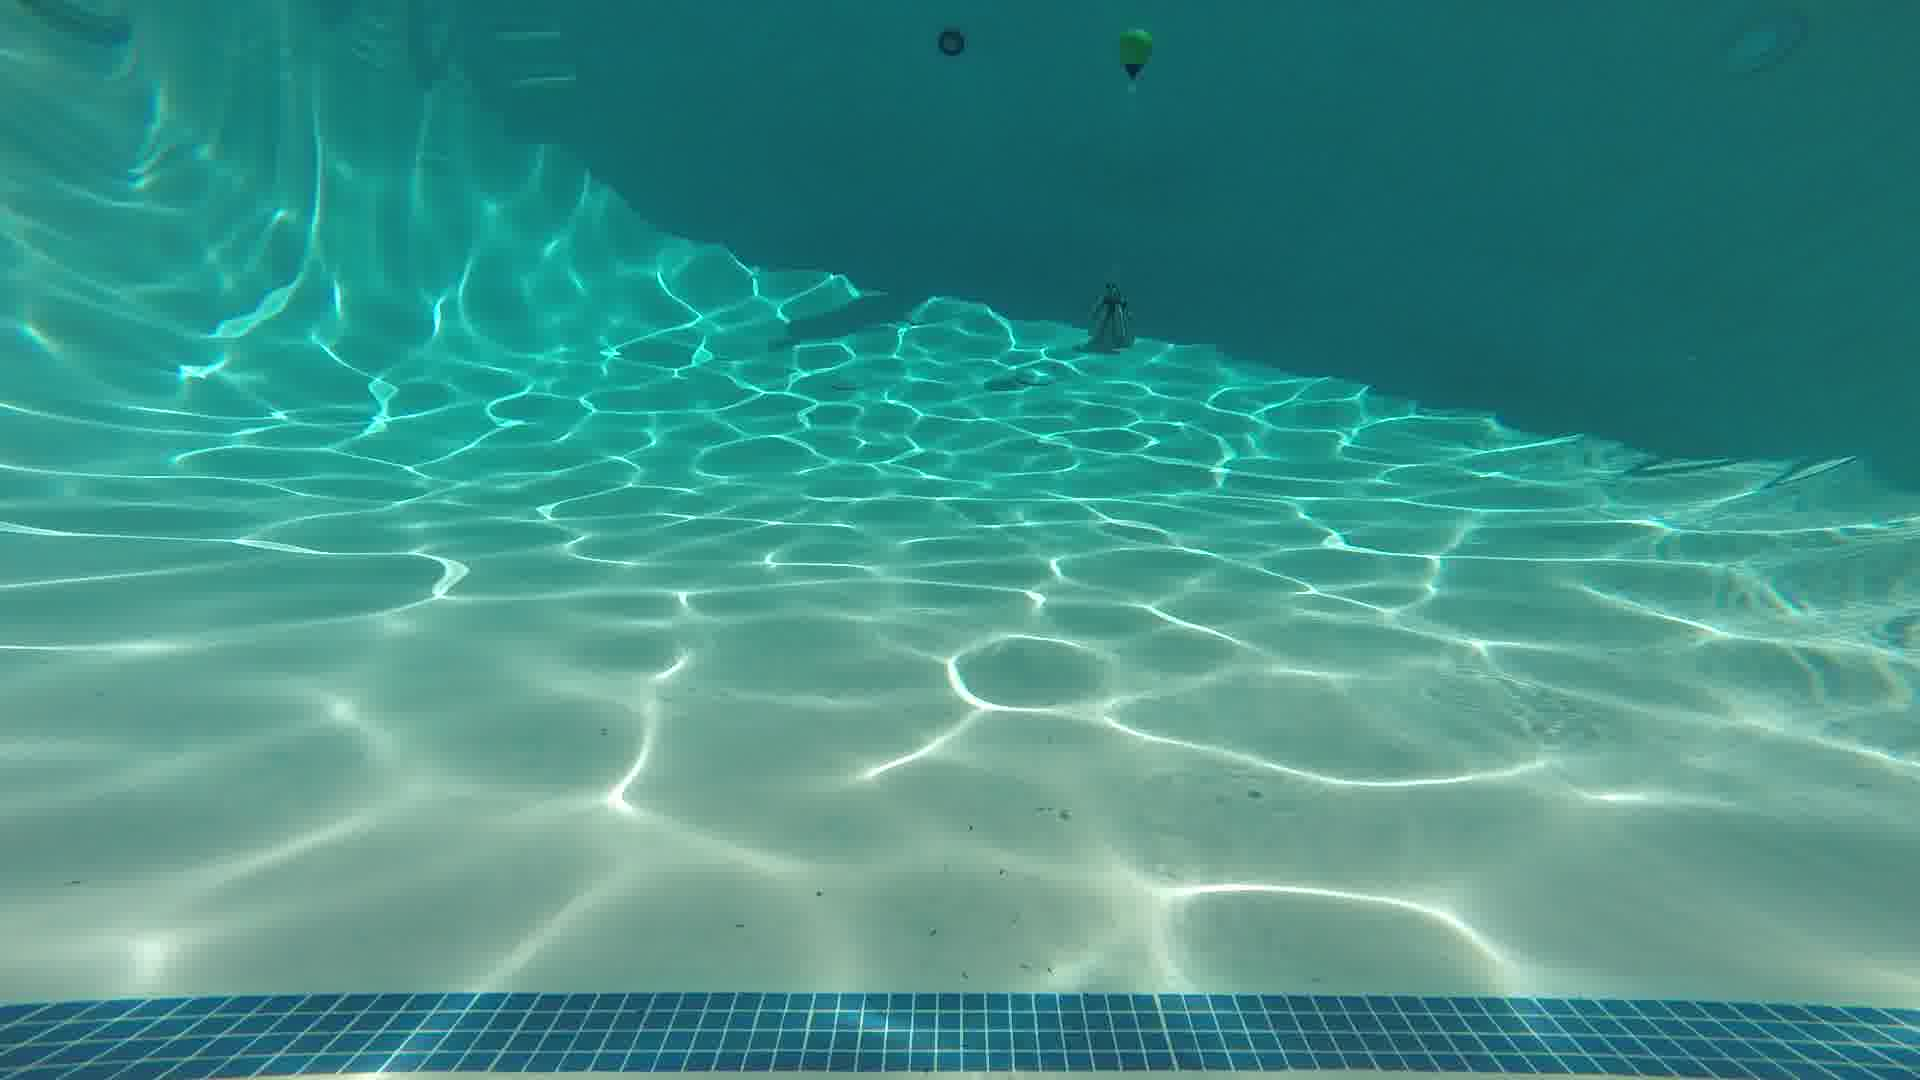yellow_buoy: (1116, 26, 1154, 79)
